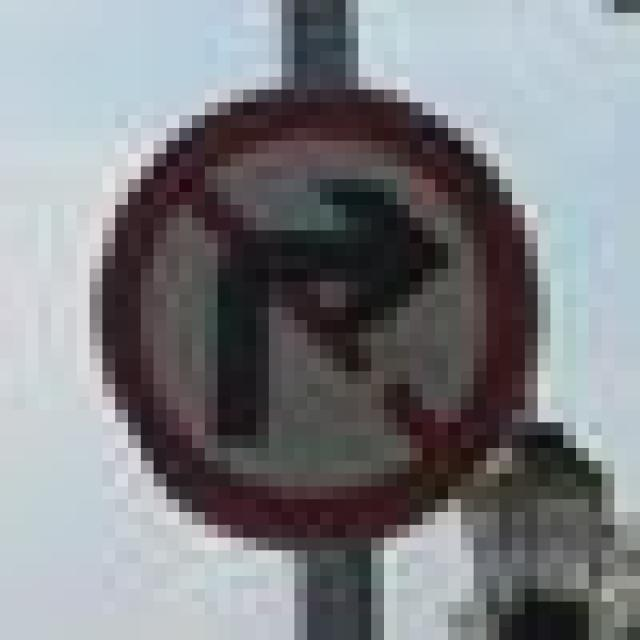right turn prohibited: (77, 73, 549, 580)
